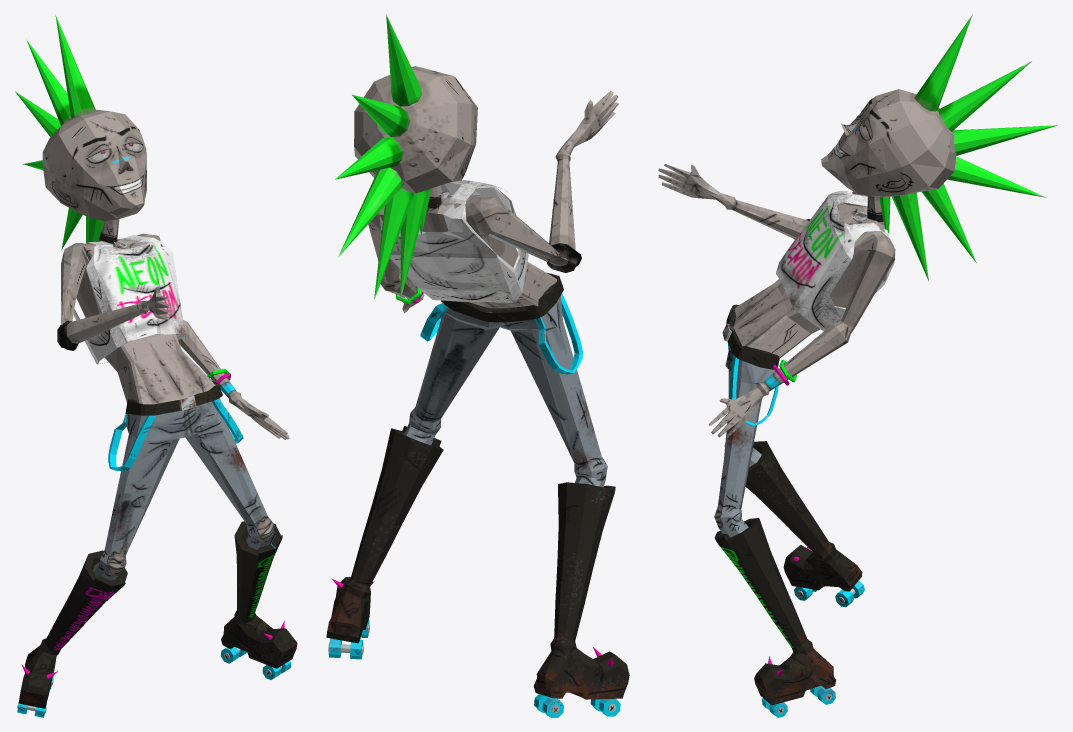
The model's file is punkAnimation_000067.obj.
3 views of the same model, side by side, from view 1: azimuth 30°, elevation 25°; view 2: azimuth 150°, elevation 25°; view 3: azimuth 270°, elevation 25° (orthographic). The views are drawn at different scales.
Parts seen in each view (by area): view 1: Cube.004_Cube.003; view 2: Cube.004_Cube.003; view 3: Cube.004_Cube.003.
Part boxes in pixels (<box>): Cube.004_Cube.003: <box>15,15,297,717</box>; Cube.004_Cube.003: <box>326,14,629,717</box>; Cube.004_Cube.003: <box>658,14,1057,717</box>.
Size of the model in its own units: 2.92 by 6.67 by 3.81.
